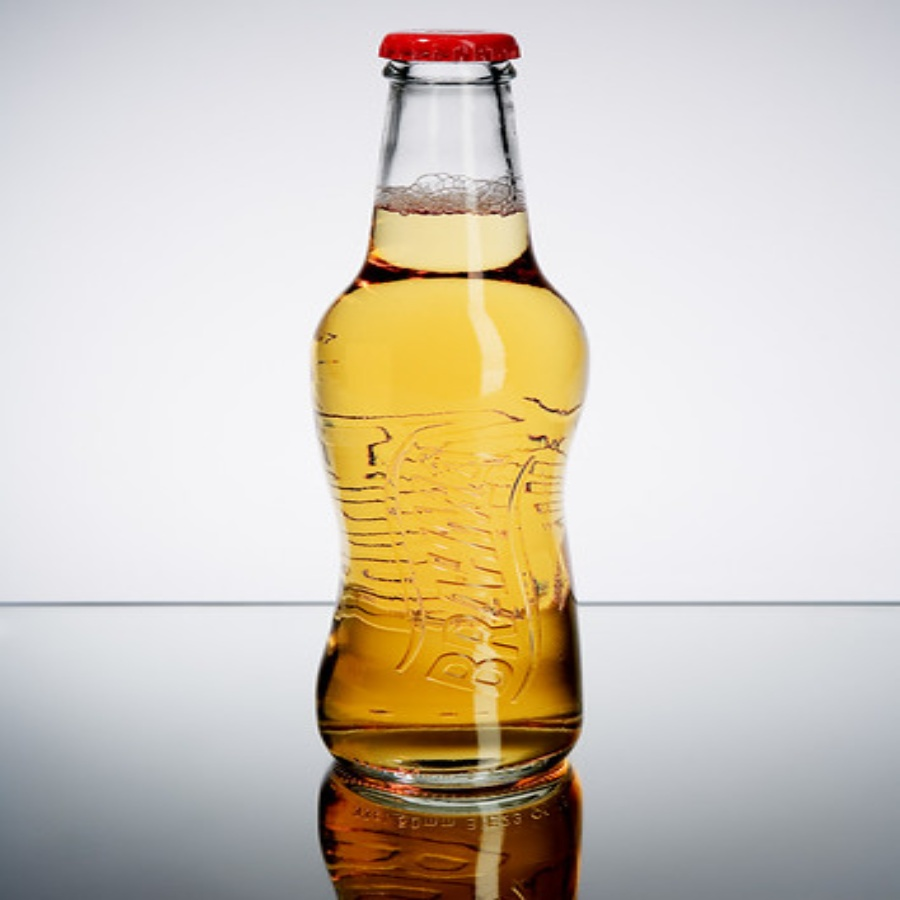beer: (313, 35, 604, 799)
